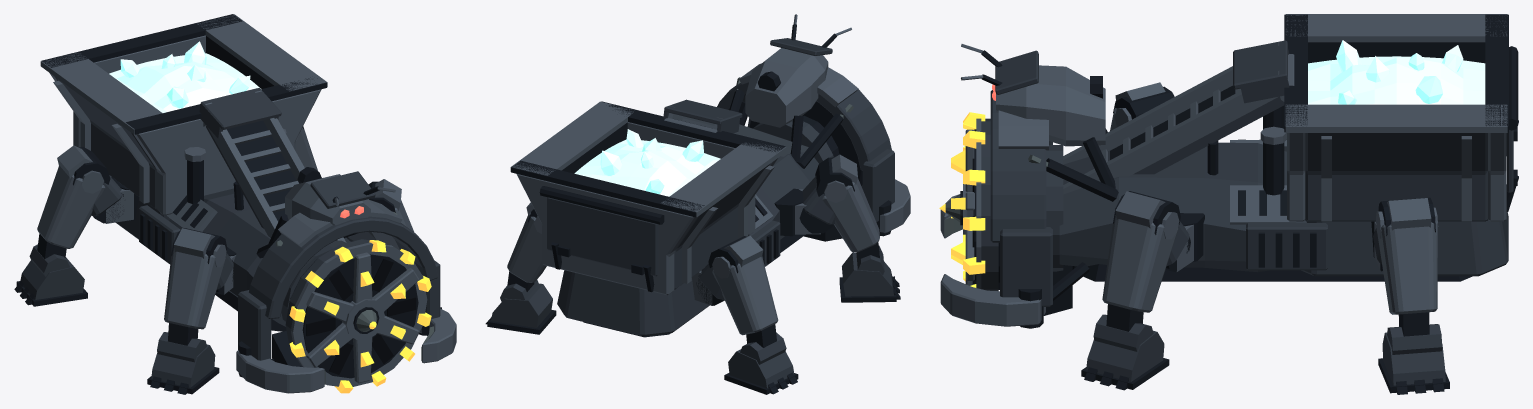
The model's file is m_harv.glb.
The picture shows the model from 3 angles, left to right: view 1: azimuth 30°, elevation 25°; view 2: azimuth 150°, elevation 25°; view 3: azimuth 270°, elevation 25°; orthographic projection. The views are drawn at different scales.
Parts seen in each view (by area): view 1: Recolector, Cutter wheel, Leg.003, Leg, Mineral load, Leg.001, Leg.002; view 2: Recolector, Leg.003, Leg, Mineral load, Leg.002, Cutter wheel; view 3: Recolector, Leg.001, Leg.002, Mineral load, Cutter wheel, Leg.
Part boxes in pixels (x1,y1,x2,y2): Recolector: (40,14,456,393); Cutter wheel: (285,239,431,393); Leg.003: (14,145,133,306); Leg: (147,228,235,394); Mineral load: (109,41,261,112); Leg.001: (346,179,441,308); Leg.002: (295,126,317,170); Recolector: (510,14,910,337); Leg.003: (692,235,798,394); Leg: (795,154,900,302); Mineral load: (574,129,720,196); Leg.002: (485,202,556,334); Cutter wheel: (747,101,862,188); Recolector: (940,14,1518,328); Leg.001: (1081,191,1193,390); Leg.002: (1373,197,1449,394); Mineral load: (1308,40,1485,104); Cutter wheel: (939,112,999,291); Leg: (1110,82,1174,130).
Bounding box in the file's own units: 3.25 × 2.08 × 4.38.
